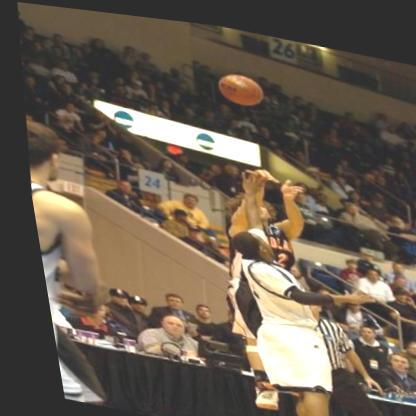basketball: (211, 65, 266, 104)
